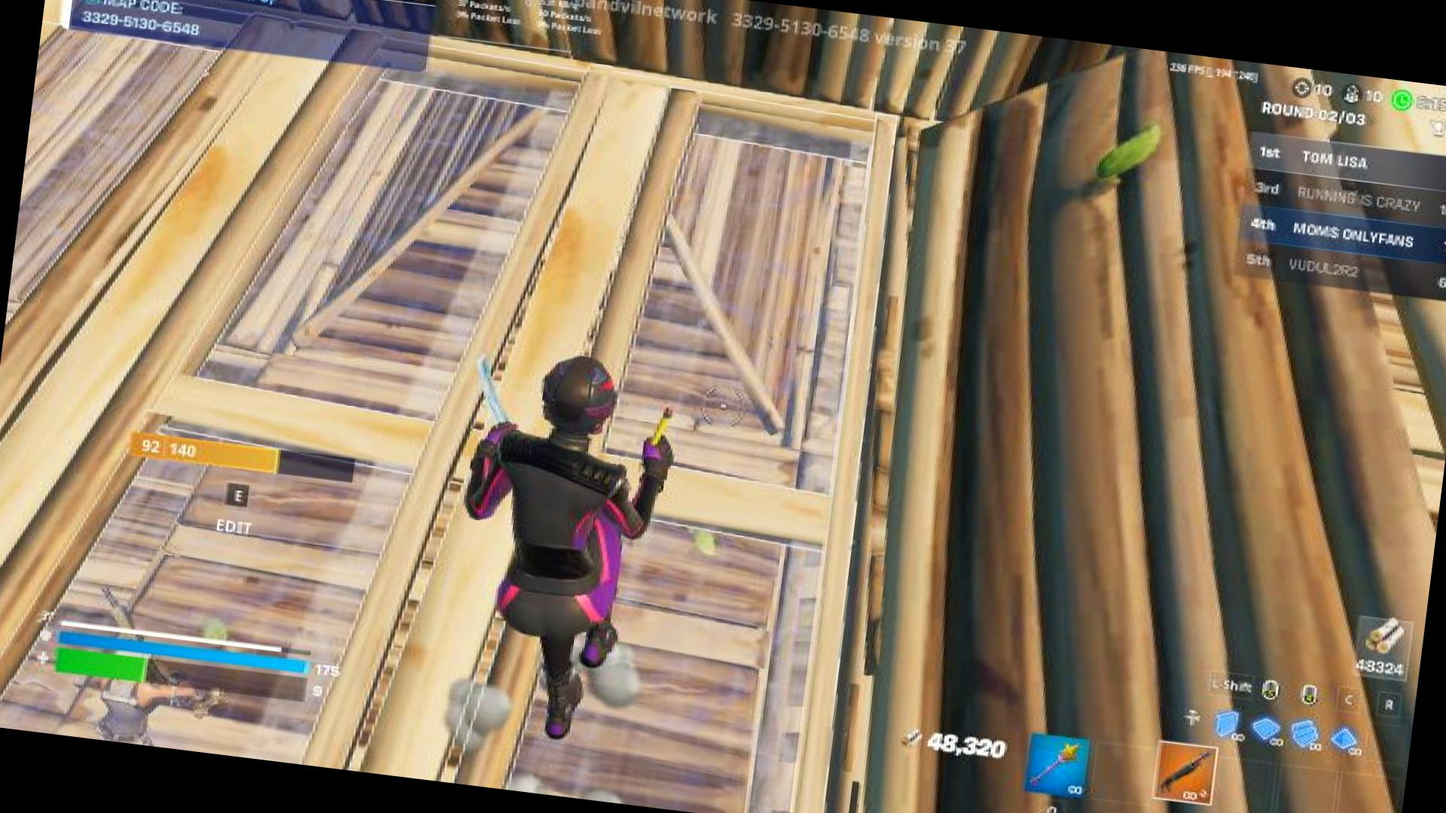player: (57, 625, 236, 754)
